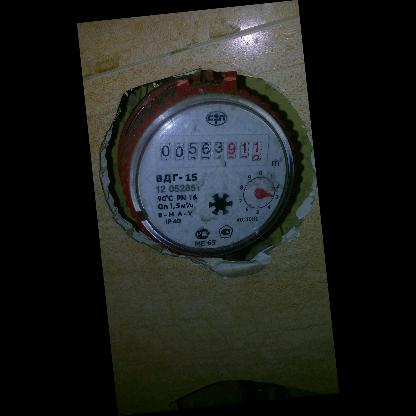digital_screen: (153, 133, 225, 167)
